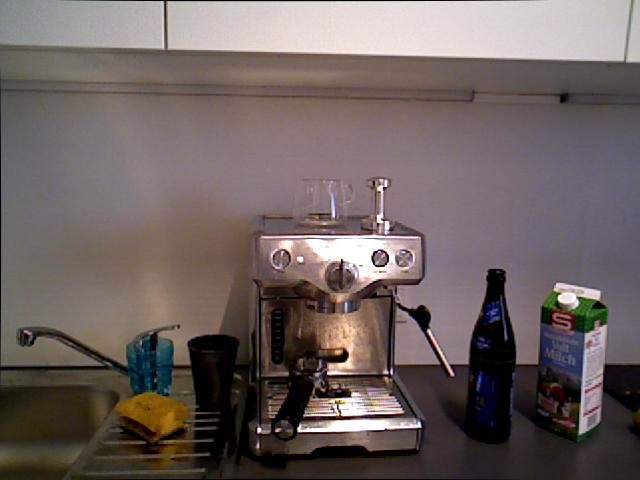bench: (532, 278, 610, 444), (465, 267, 516, 444)
couch: (0, 381, 120, 479)
handbag: (187, 333, 239, 410), (123, 333, 177, 402), (292, 176, 354, 226)
